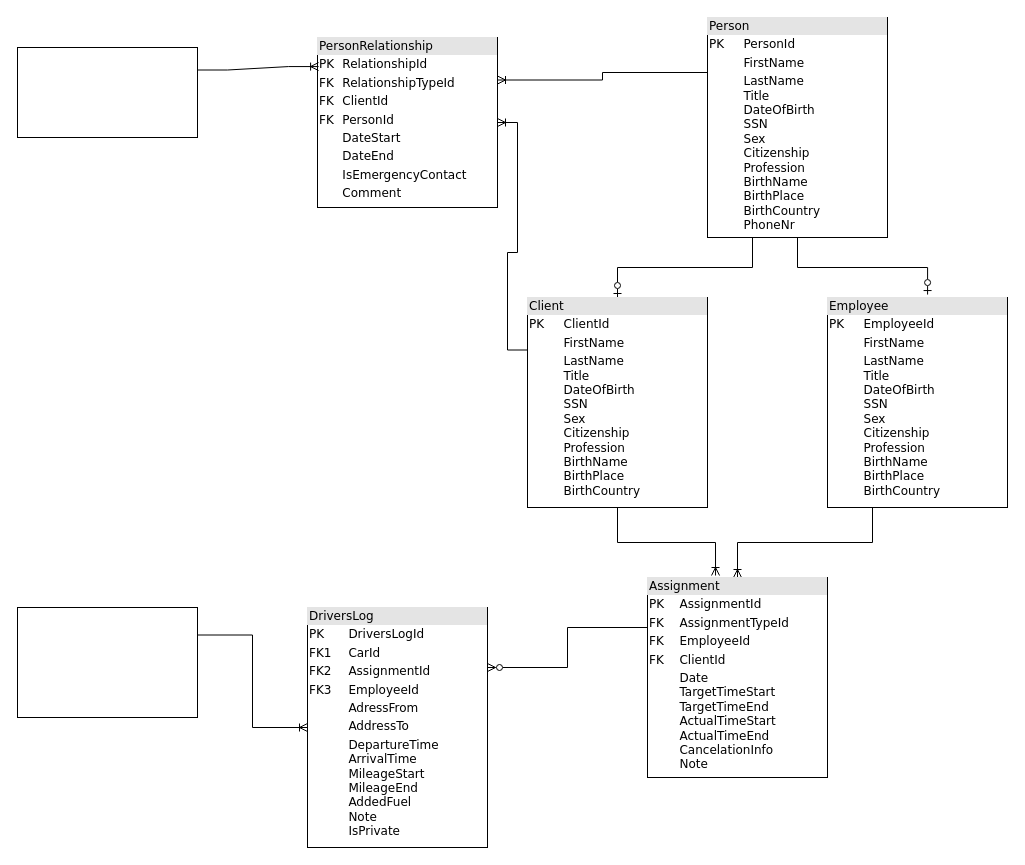
This 1025x865 diagram has some shape labels left out. The shapes that lost their labels are listed below. From the top down, each one's centre as x and y in pixels, then its label:
At [107,92]: "RelationshipType PK RelationshipTypeId Value ShortValue".
At [107,662]: "Car PK CarId LicensePlate LastCheck DateStart DateEnd".
